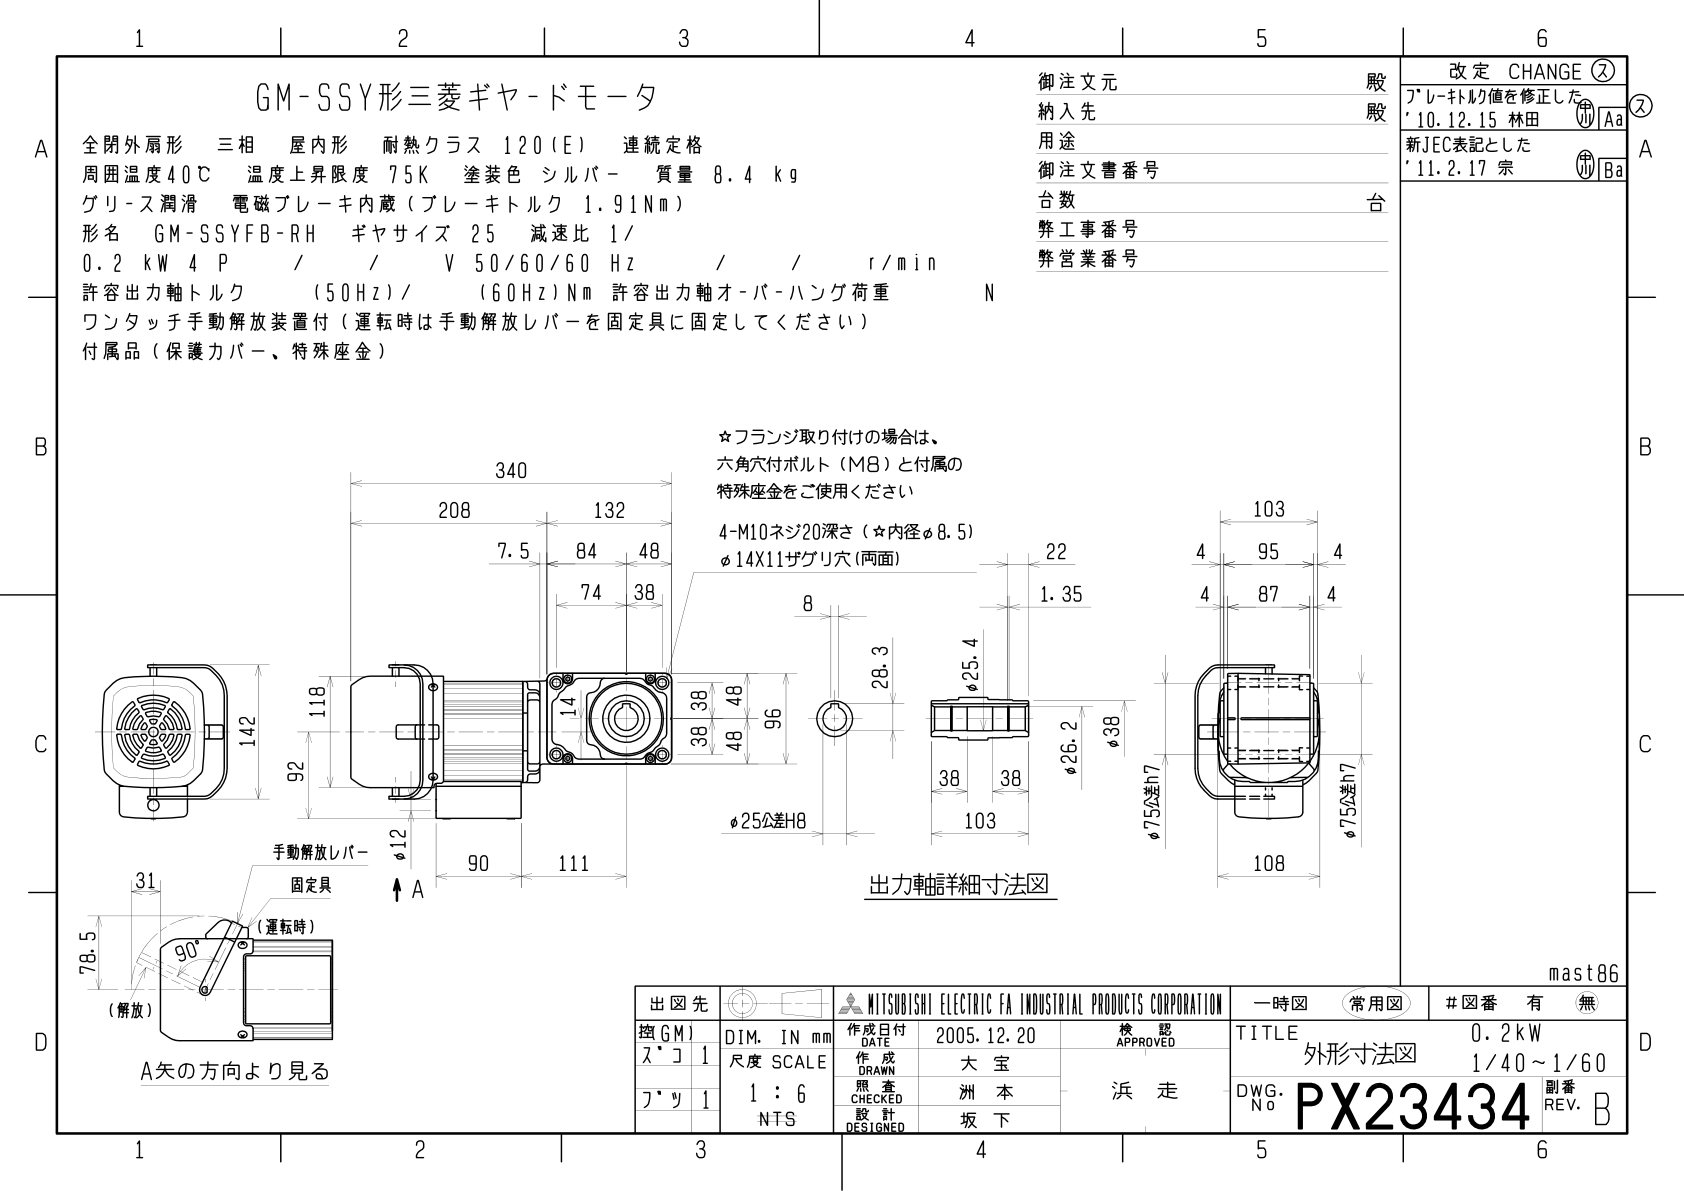GM_SSY_手動解放_三相: (1, 1, 1674, 1169)
